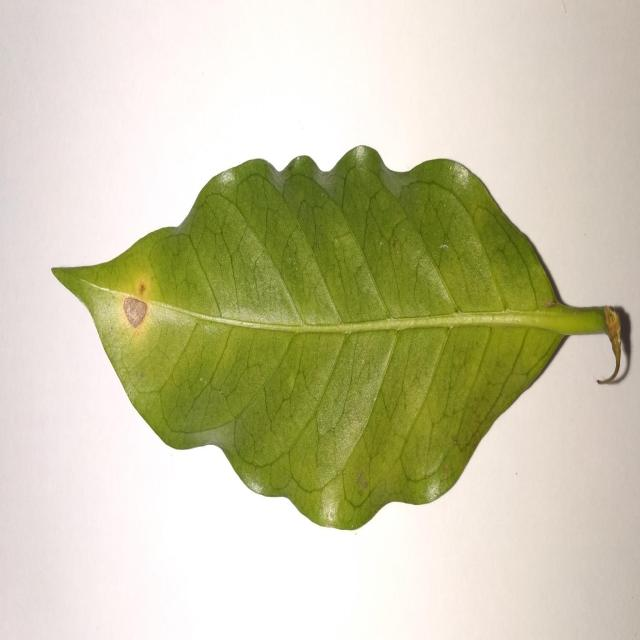Enfermedad-Mancha-de-hierro: (50, 148, 628, 532)
